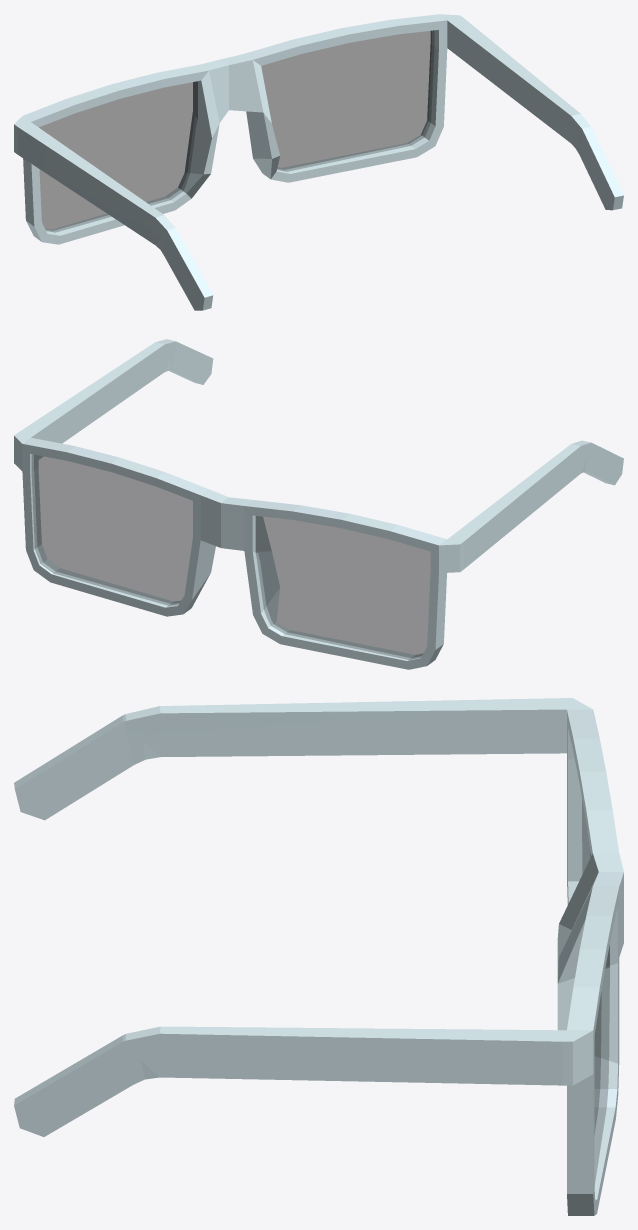
File: gafasblancas.fbx
3 renders of one model, top to bottom at view 1: azimuth 30°, elevation 25°; view 2: azimuth 150°, elevation 25°; view 3: azimuth 270°, elevation 25°, orthographic. The views are drawn at different scales.
Parts seen in each view (by area): view 1: Sunglasses_Cube.001; view 2: Sunglasses_Cube.001; view 3: Sunglasses_Cube.001.
Boxes of the visible parts, <box> form: Sunglasses_Cube.001: <box>14,14,623,310</box>; Sunglasses_Cube.001: <box>14,339,623,669</box>; Sunglasses_Cube.001: <box>14,698,623,1215</box>.
Bounding box in the file's own units: 80.79 × 23.61 × 60.61.
